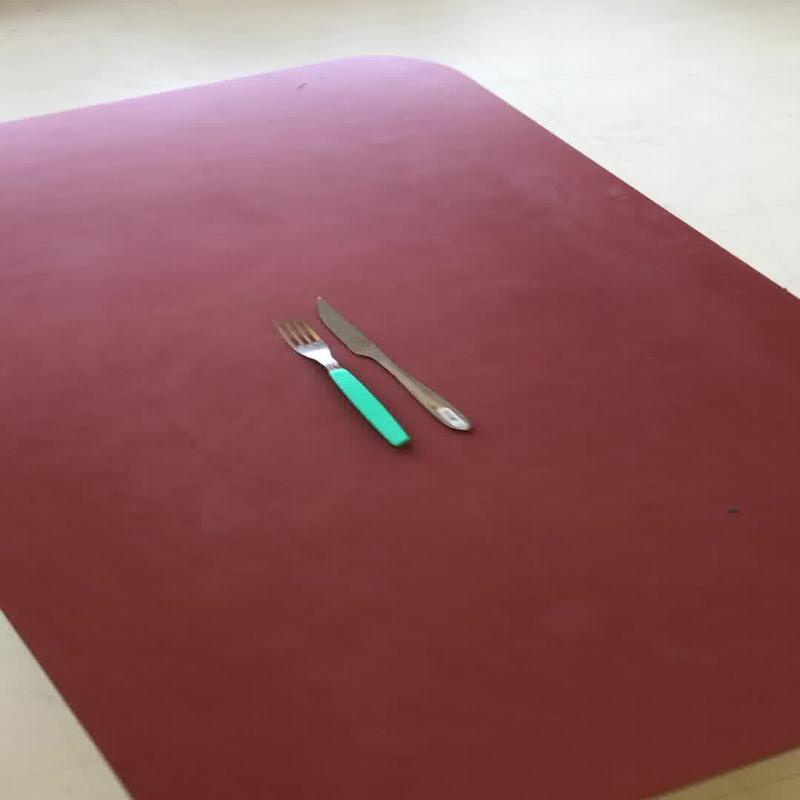fork: (272, 318, 411, 447)
knife: (312, 295, 472, 431)
